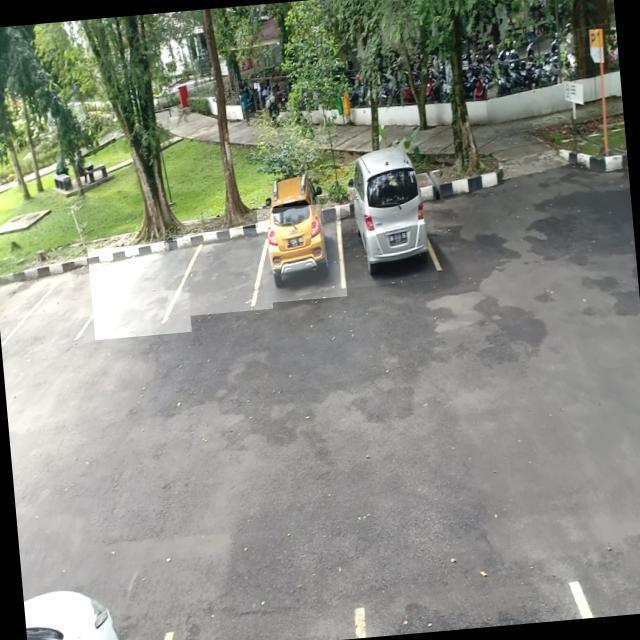empty: (87, 240, 191, 340), (172, 226, 272, 316)
occupied: (333, 179, 438, 288), (256, 202, 347, 303)
